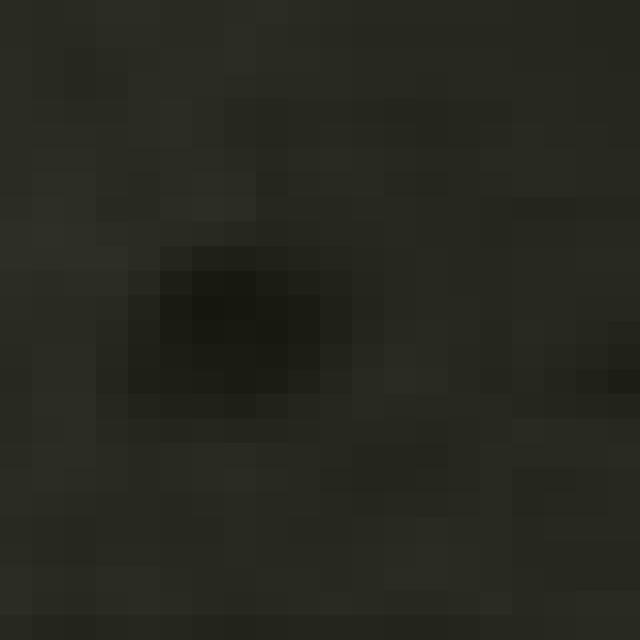.: (80, 212, 394, 453)
